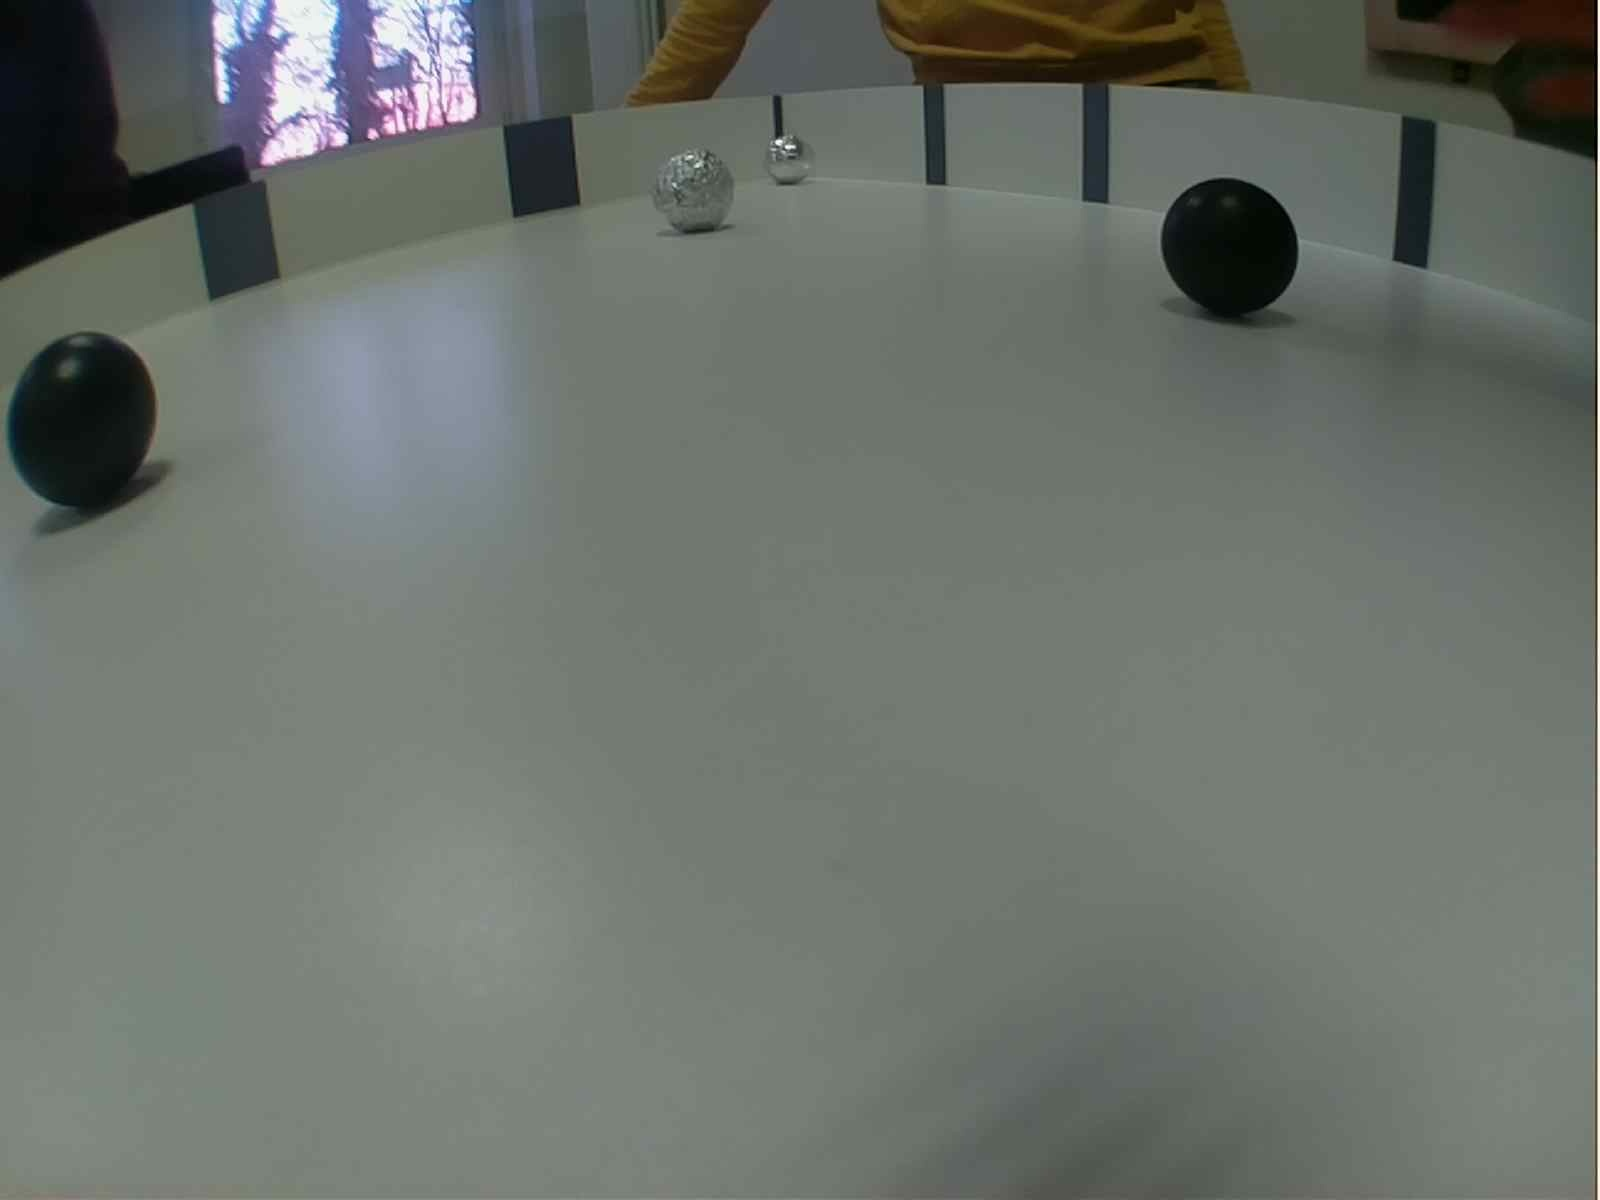bianca: (653, 147, 737, 236), (763, 132, 813, 187)
nera: (8, 319, 161, 518), (1158, 174, 1306, 321)
